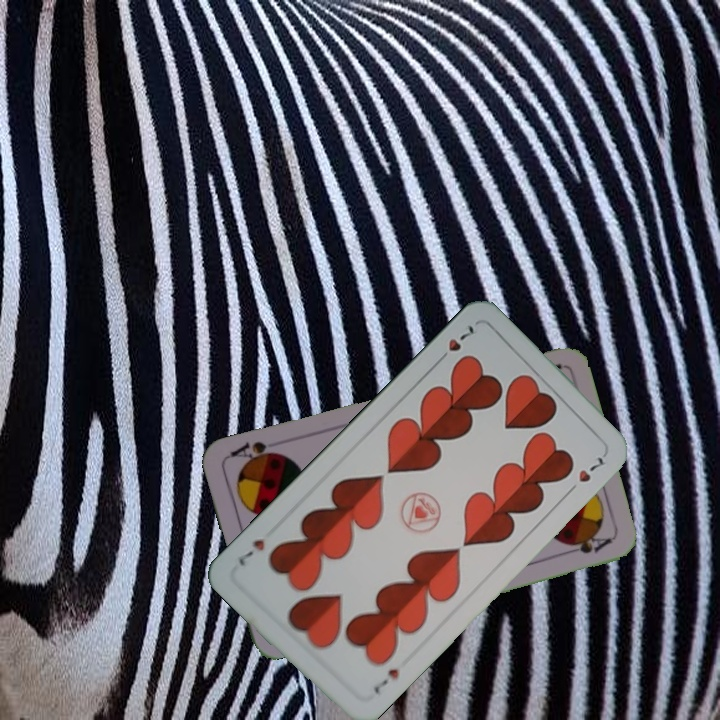H7: (433, 321, 477, 366), (368, 664, 402, 698)
